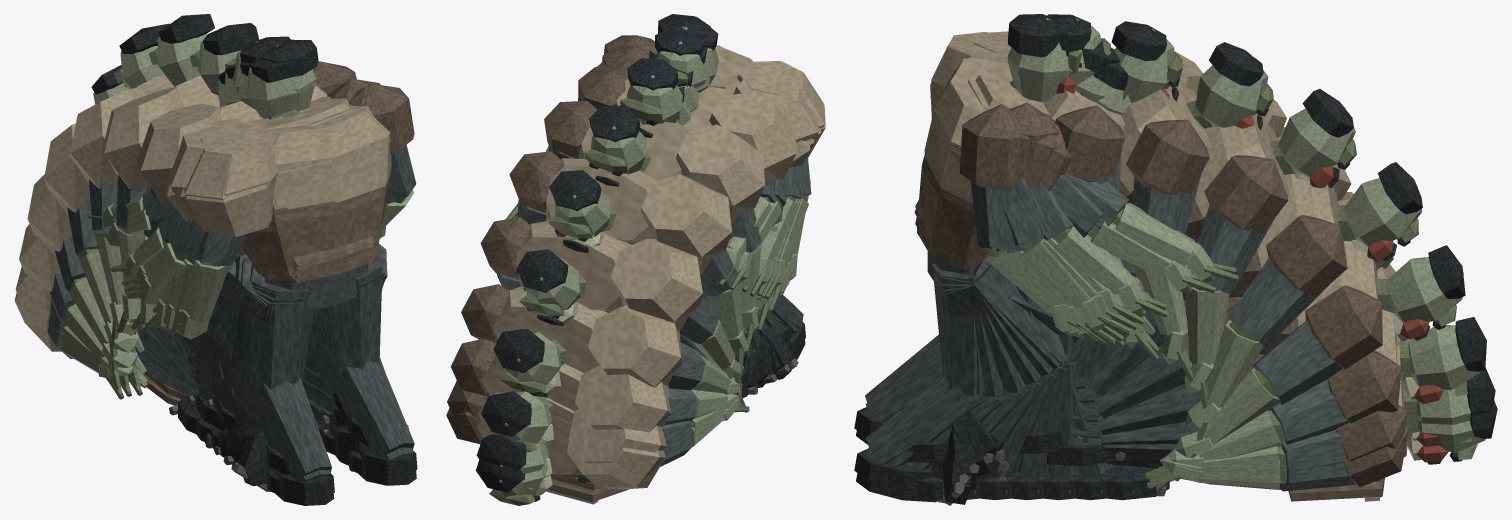
The model's file is armored_baked_poses.glb.
The picture shows the model from 3 angles, left to right: view 1: azimuth 30°, elevation 25°; view 2: azimuth 150°, elevation 25°; view 3: azimuth 270°, elevation 25°; orthographic projection. The views are drawn at different scales.
Parts seen in each view (by area): view 1: walk_03, walk_09, death_03, death_02, death_04, death_01, walk_07, death_05, walk_02, walk_01, walk_08, death_06 (+18 smaller); view 2: death_05, death_04, death_06, death_03, death_07, death_02, death_09, death_08, death_01, walk_03, attack_03, attack_02 (+6 smaller); view 3: death_05, death_06, death_04, walk_09, death_07, death_03, death_09, death_08, death_02, walk_08, attack_02, walk_01 (+17 smaller).
Part boxes in pixels (box(x1,y1,x2,y2)): walk_03: box(201, 40, 416, 456); walk_09: box(167, 39, 414, 474); death_03: box(102, 14, 348, 450); death_02: box(131, 23, 361, 457); death_04: box(70, 23, 342, 455); death_01: box(145, 36, 380, 461); walk_07: box(160, 60, 413, 505); death_05: box(44, 65, 323, 464); walk_02: box(160, 71, 417, 476); walk_01: box(153, 72, 416, 485); walk_08: box(165, 58, 413, 499); death_06: box(27, 174, 331, 470); death_05: box(480, 217, 762, 394); death_04: box(509, 151, 750, 383); death_06: box(461, 284, 776, 406); death_03: box(544, 100, 765, 392); death_07: box(450, 329, 790, 451); death_02: box(578, 58, 796, 358); death_09: box(446, 327, 798, 505); death_08: box(447, 327, 794, 492); death_01: box(602, 30, 818, 311); walk_03: box(627, 16, 821, 397); attack_03: box(604, 45, 821, 296); attack_02: box(514, 53, 814, 290); death_05: box(954, 127, 1422, 463); death_06: box(952, 192, 1465, 481); death_04: box(988, 89, 1356, 461); walk_09: box(917, 18, 1131, 500); death_07: box(948, 264, 1486, 489); death_03: box(988, 42, 1273, 471); death_09: box(942, 373, 1497, 505); death_08: box(942, 336, 1495, 500); death_02: box(931, 21, 1182, 482); walk_08: box(854, 40, 1128, 499); attack_02: box(914, 41, 1215, 293); walk_01: box(856, 150, 1105, 502).
Bounding box in the file's own units: 1.04 × 1.6 × 2.03.
Materials: 1 (1 with a texture image).
